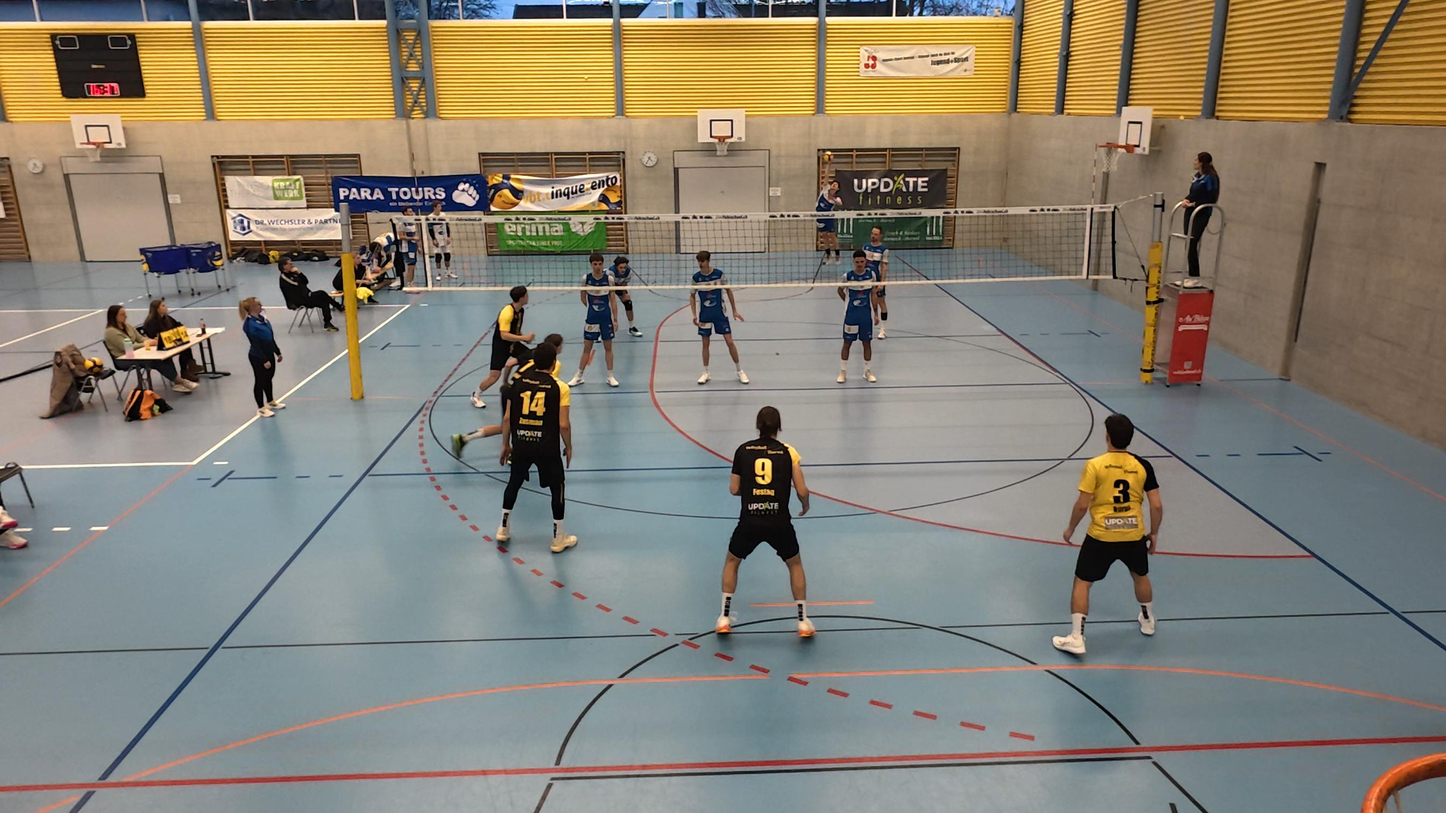Player: (1053, 414, 1162, 655), (714, 407, 814, 640), (494, 334, 577, 552), (451, 284, 532, 459), (435, 354, 509, 460), (690, 252, 746, 387), (833, 258, 885, 386), (575, 258, 620, 390), (859, 224, 895, 332), (606, 237, 640, 338)
Serve: (810, 156, 846, 266)
ball: (822, 150, 835, 165)
